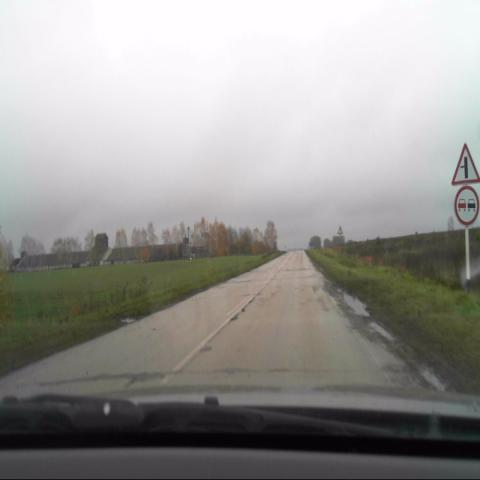2_3_3: (448, 142, 480, 183)
